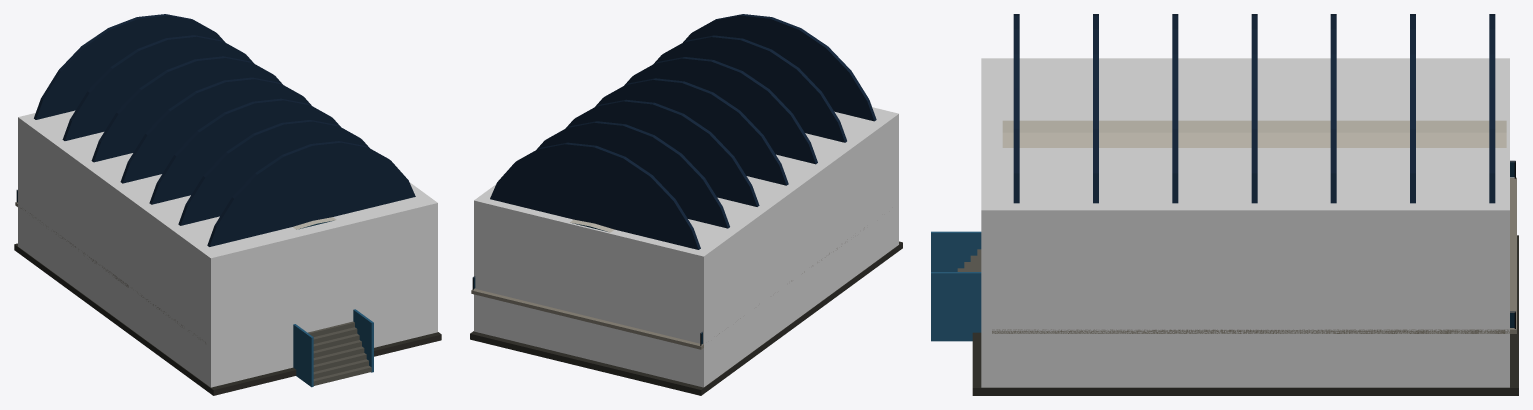
The model's file is C03_beach_sports.glb.
3 renders of one model, left to right at view 1: azimuth 30°, elevation 25°; view 2: azimuth 150°, elevation 25°; view 3: azimuth 270°, elevation 25°, orthographic. The views are drawn at different scales.
Parts seen in each view (by area): view 1: COL_Main, LOD0; view 2: COL_Main, LOD0; view 3: COL_Main, LOD0.
Part boxes in pixels (left/top/right/bottom): COL_Main: left=18, top=110, right=437, bottom=387; LOD0: left=14, top=14, right=441, bottom=395; COL_Main: left=474, top=107, right=898, bottom=387; LOD0: left=470, top=14, right=902, bottom=395; COL_Main: left=981, top=58, right=1509, bottom=387; LOD0: left=931, top=14, right=1518, bottom=395.
Size of what is drawn, in the model's own units: 20.5 by 18.19 by 33.35.
